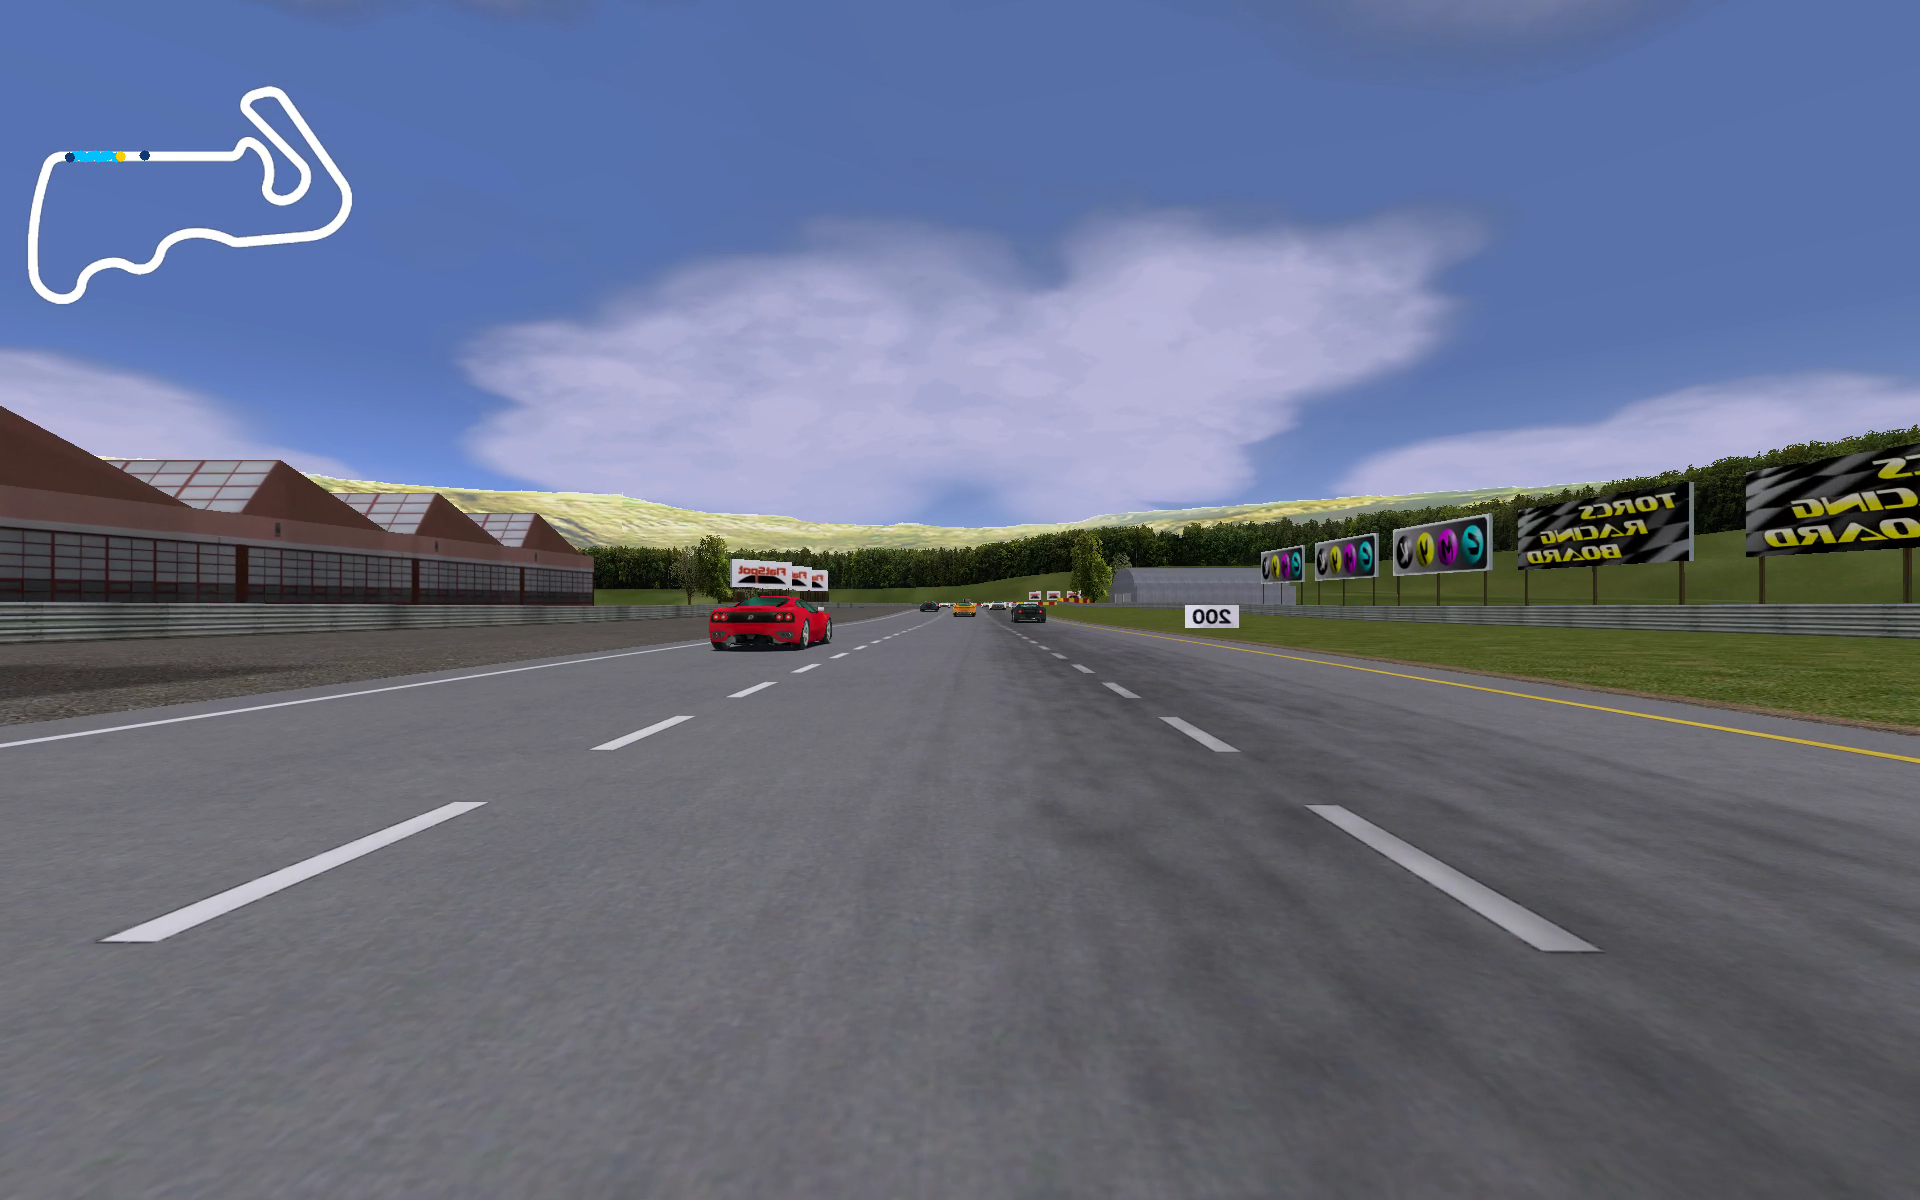car: (706, 592, 838, 653), (1009, 600, 1048, 625)
